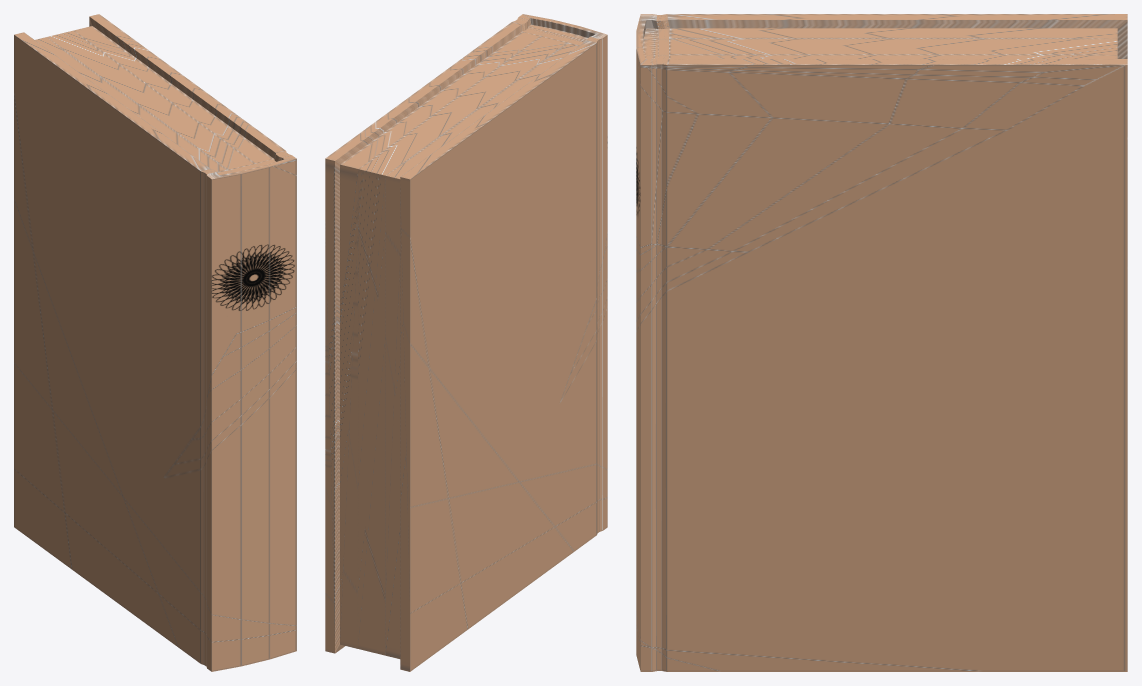
Rendered from book2.fbx.
3 renders of one model, left to right at view 1: azimuth 30°, elevation 25°; view 2: azimuth 150°, elevation 25°; view 3: azimuth 270°, elevation 25°, orthographic. The views are drawn at different scales.
Visible parts, largest first — view 1: Architexture; view 2: Architexture; view 3: Architexture.
Part boxes in pixels (<box>): Architexture: <box>14,14,296,671</box>; Architexture: <box>325,14,607,671</box>; Architexture: <box>636,14,1127,671</box>.
Size of the model in its own units: 2.71 by 15 by 11.01.
1 material, 1 textured.
